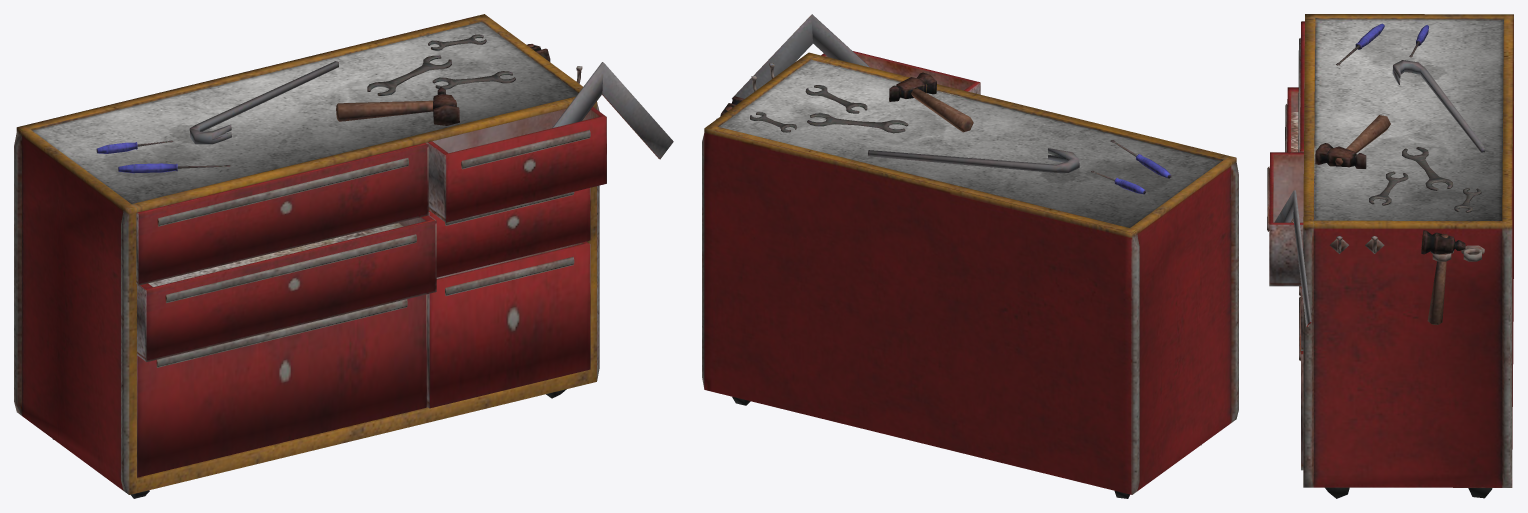
File: banca_ferramentas_separada.fbx
3 renders of one model, left to right at view 1: azimuth 30°, elevation 25°; view 2: azimuth 150°, elevation 25°; view 3: azimuth 270°, elevation 25°, orthographic. The views are drawn at different scales.
Parts seen in each view (by area): view 1: Banca, gaveta_larga.002, gaveta_larga, gaveta_larga.001, gaveta_estreita.002, gaveta_estreita, gaveta_estreita.001, esquadro, martelo.002, pe_de_cabra, chave_de_boca.001; view 2: Banca, esquadro, pe_de_cabra, martelo.002, gaveta_estreita, chave_de_boca.001; view 3: Banca, gaveta_estreita, martelo.002, martelo.001, pe_de_cabra, esquadro, gaveta_larga, gaveta_larga.001, chave_de_boca.001, gaveta_estreita.002, chave_de_boca, chave_de_fenda.
Part boxes in pixels (x1,y1,x2,y2): Banca: [14, 14, 599, 498]; gaveta_larga.002: [137, 294, 427, 477]; gaveta_larga: [137, 215, 436, 361]; gaveta_larga.001: [136, 142, 428, 285]; gaveta_estreita.002: [427, 241, 590, 408]; gaveta_estreita: [427, 107, 606, 222]; gaveta_estreita.001: [428, 187, 590, 277]; esquadro: [552, 62, 673, 159]; martelo.002: [336, 87, 459, 125]; pe_de_cabra: [189, 61, 338, 144]; chave_de_boca.001: [367, 55, 451, 95]; Banca: [702, 52, 1238, 498]; esquadro: [732, 14, 870, 99]; pe_de_cabra: [868, 148, 1079, 173]; martelo.002: [889, 72, 973, 132]; gaveta_estreita: [821, 51, 980, 94]; chave_de_boca.001: [807, 113, 908, 133]; Banca: [1303, 14, 1513, 498]; gaveta_estreita: [1267, 152, 1303, 286]; martelo.002: [1315, 115, 1390, 168]; martelo.001: [1421, 230, 1465, 324]; pe_de_cabra: [1392, 60, 1485, 152]; esquadro: [1274, 190, 1311, 326]; gaveta_larga: [1285, 87, 1298, 152]; gaveta_larga.001: [1298, 21, 1304, 152]; chave_de_boca.001: [1402, 147, 1452, 190]; gaveta_estreita.002: [1299, 296, 1303, 470]; chave_de_boca: [1369, 171, 1408, 205]; chave_de_fenda: [1336, 23, 1384, 65].
Bounding box in the file's own units: 2 × 1.19 × 0.84.
